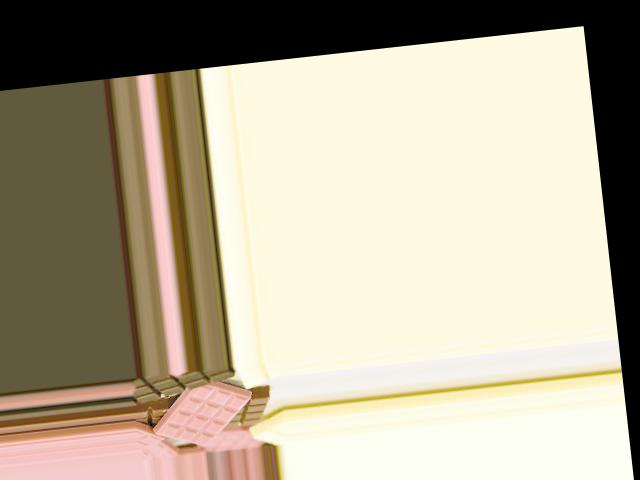chocolate: (147, 364, 255, 454)
